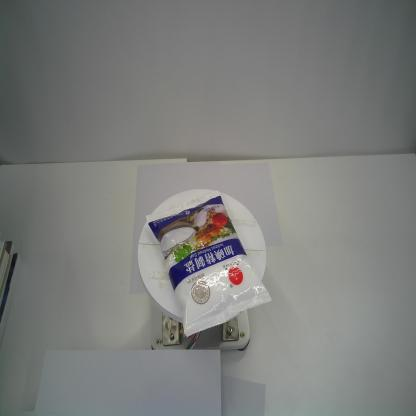Seasoner: (145, 190, 272, 338)
